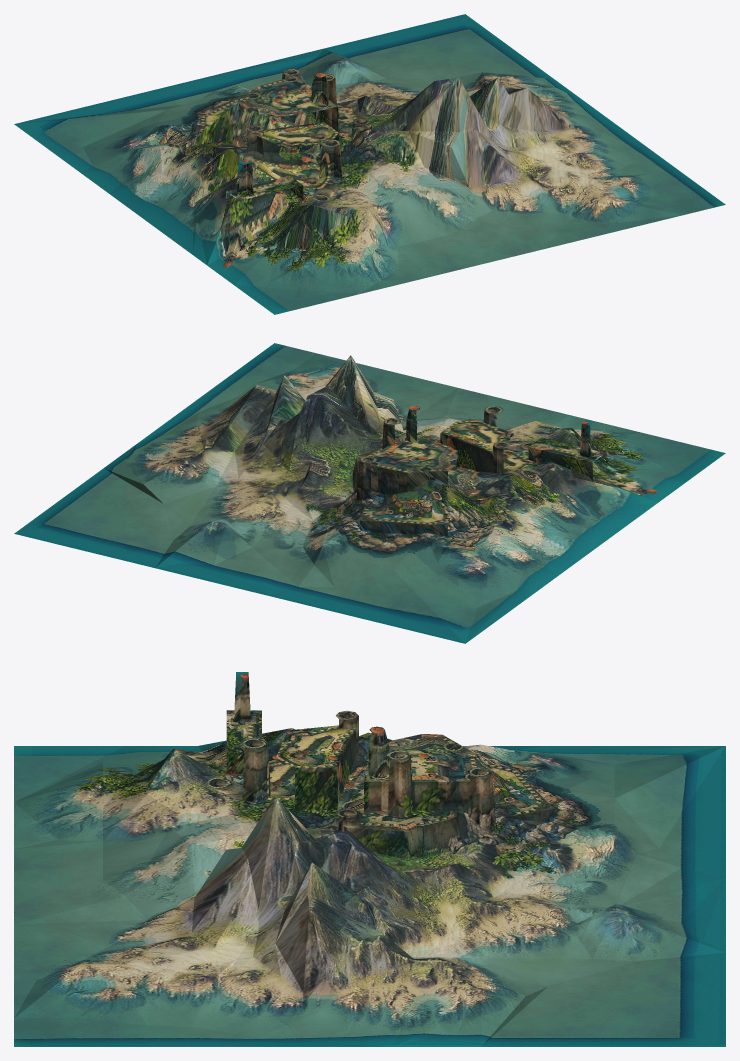
The model's file is F_TradingIsland_03.fbx.
The picture shows the model from 3 angles, top to bottom: view 1: azimuth 30°, elevation 25°; view 2: azimuth 150°, elevation 25°; view 3: azimuth 270°, elevation 25°; orthographic projection. The views are drawn at different scales.
Parts seen in each view (by area): view 1: F_TradingIsland_03; view 2: F_TradingIsland_03; view 3: F_TradingIsland_03.
Part boxes in pixels (bbox=[...]): F_TradingIsland_03: bbox=[14, 14, 725, 314]; F_TradingIsland_03: bbox=[14, 343, 725, 643]; F_TradingIsland_03: bbox=[14, 672, 725, 1046].
Size of the model in its own units: 6 by 1.57 by 6.
1 material, 1 textured.
